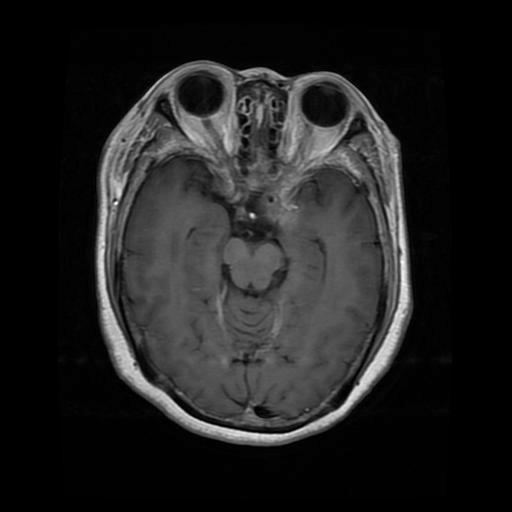Tumour-Pituitary: (178, 225, 303, 318)
